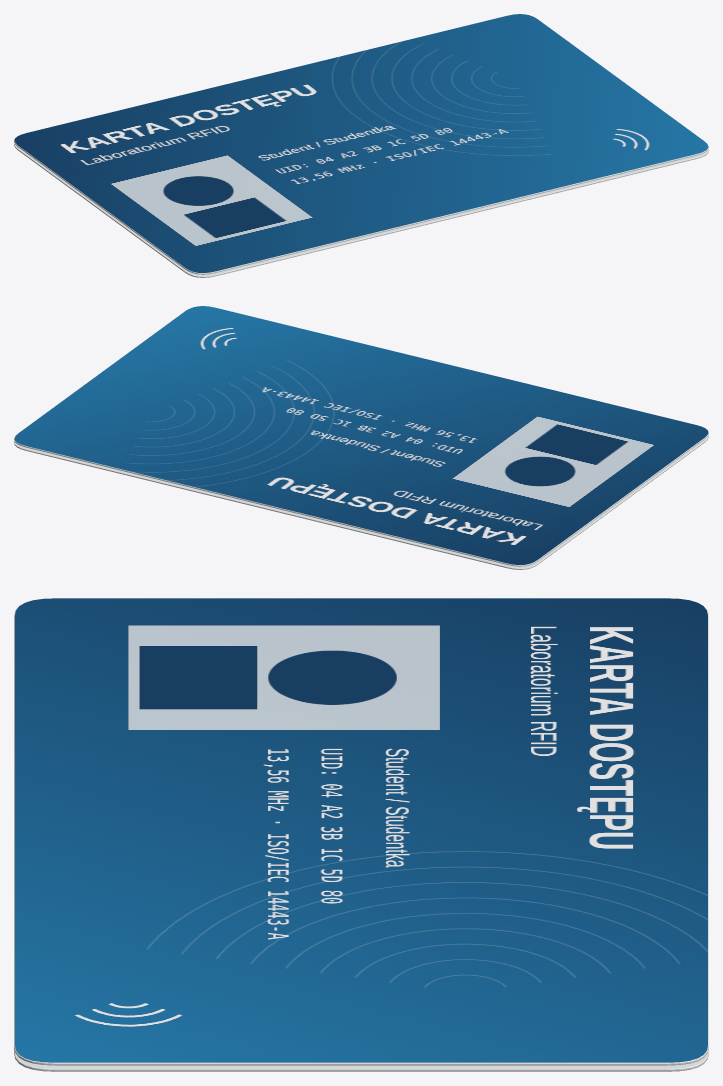
The model's file is kartaHF.glb.
3 renders of one model, top to bottom at view 1: azimuth 30°, elevation 25°; view 2: azimuth 150°, elevation 25°; view 3: azimuth 270°, elevation 25°, orthographic. The views are drawn at different scales.
Visible parts, largest first — view 1: Warstwa wierzchnia (PVC z nadrukiem), Warstwa spodnia (PVC); view 2: Warstwa wierzchnia (PVC z nadrukiem), Warstwa spodnia (PVC); view 3: Warstwa wierzchnia (PVC z nadrukiem), Warstwa spodnia (PVC).
Part boxes in pixels (x1,y1,x2,y2): Warstwa wierzchnia (PVC z nadrukiem): (14,14,708,274); Warstwa spodnia (PVC): (14,143,708,277); Warstwa wierzchnia (PVC z nadrukiem): (14,306,708,566); Warstwa spodnia (PVC): (14,435,708,569); Warstwa wierzchnia (PVC z nadrukiem): (14,598,708,1065); Warstwa spodnia (PVC): (14,1048,708,1071).
Bounding box in the file's own units: 0.0857 × 0.00076 × 0.0541.
Materials: 7 (2 with a texture image).
